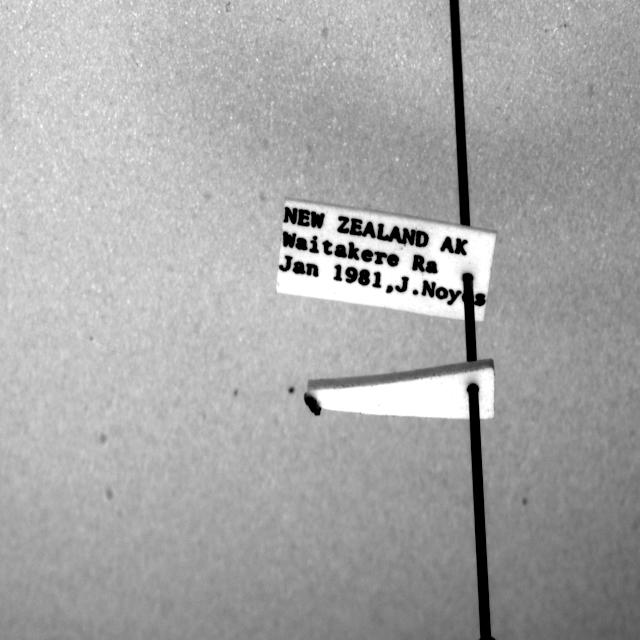typed_label: (276, 199, 496, 321)
